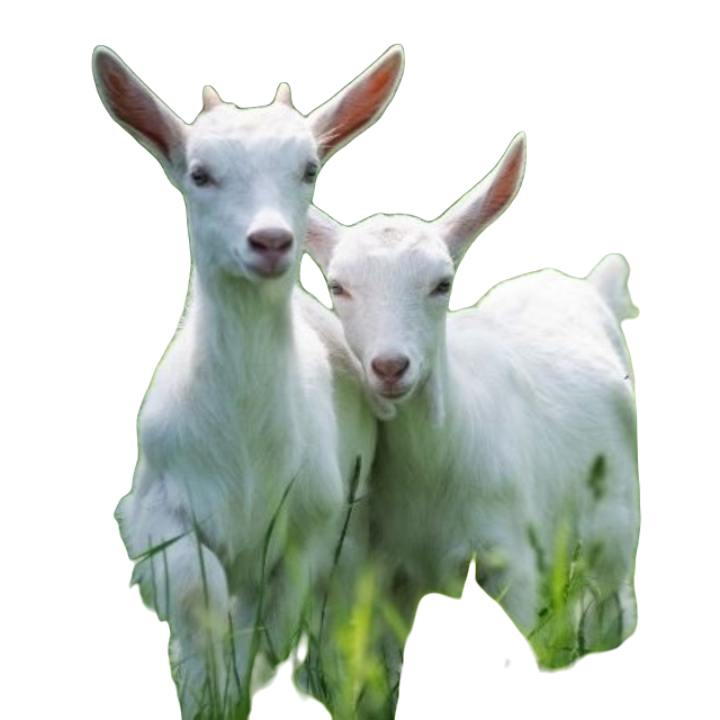Goat: (87, 41, 410, 719)
